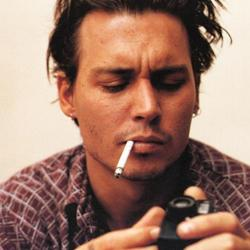smoking: (114, 132, 166, 180)
